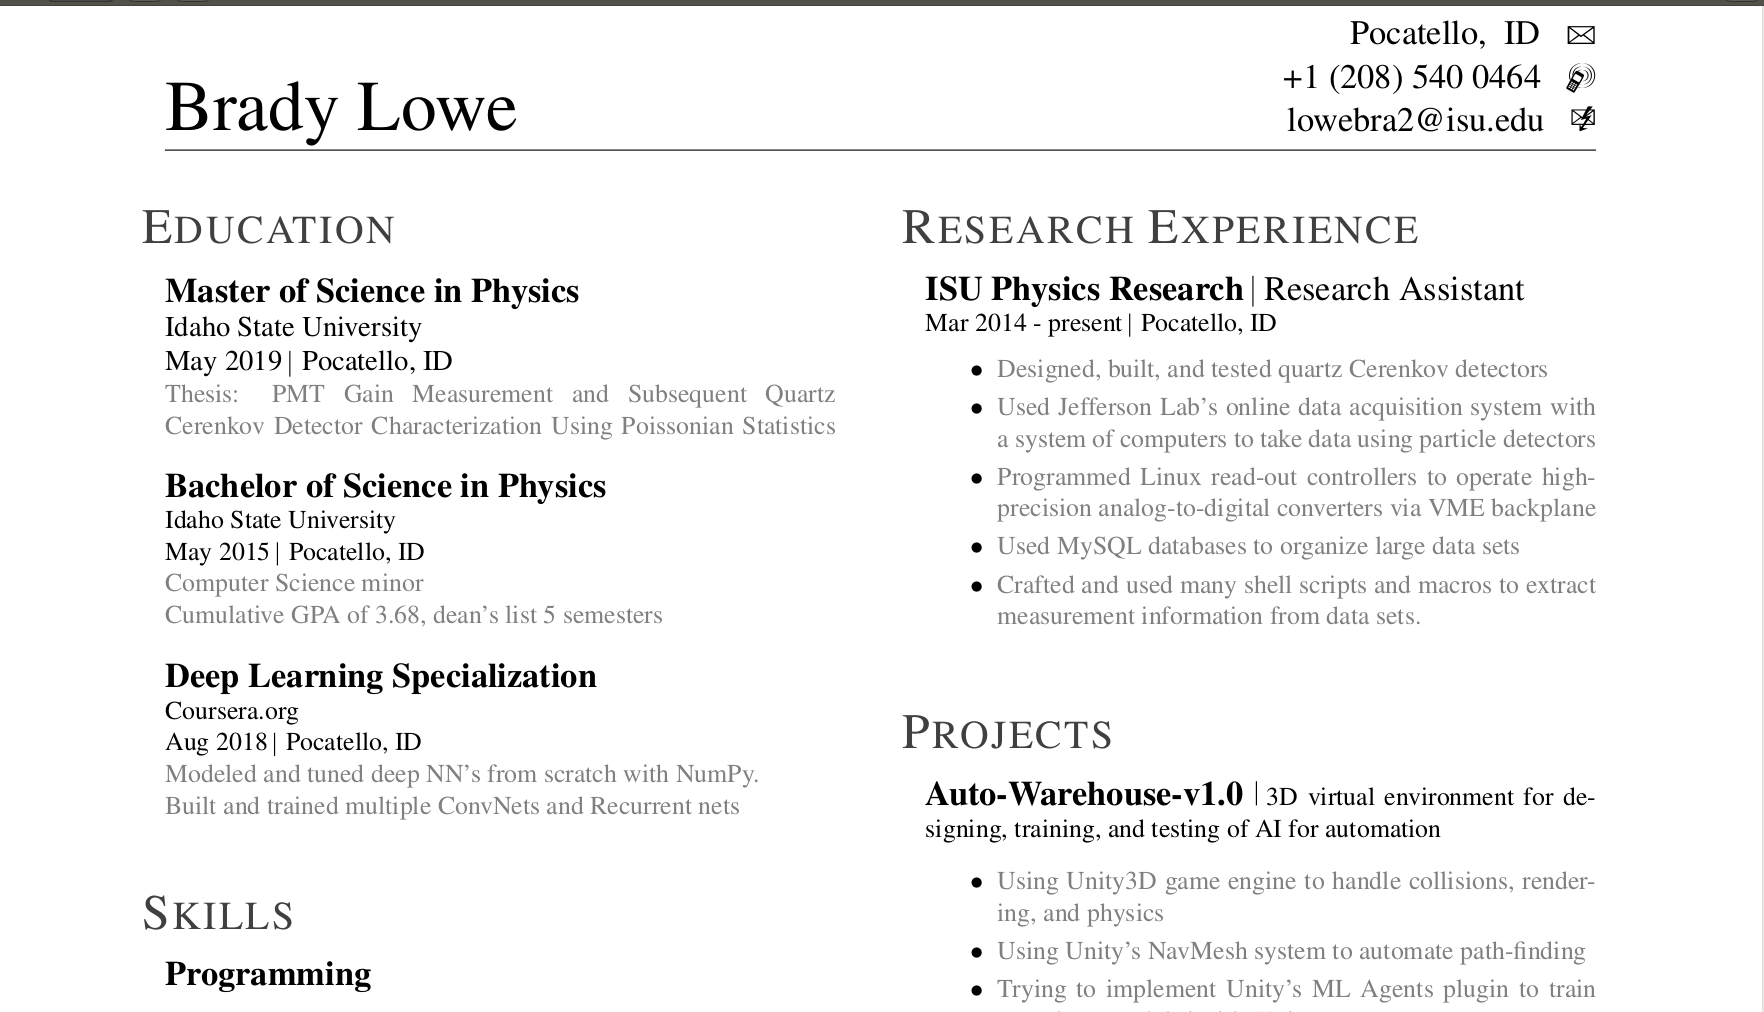bullet: (157, 375, 844, 444), (962, 385, 1606, 458), (966, 565, 1608, 637), (956, 862, 1608, 927), (964, 461, 1605, 525), (164, 757, 768, 816), (953, 925, 1600, 968), (958, 349, 1558, 384), (966, 528, 1531, 565), (955, 968, 1613, 999), (151, 270, 594, 311), (162, 599, 671, 634), (157, 469, 608, 507), (162, 657, 606, 694), (1273, 58, 1602, 101), (1277, 102, 1606, 141), (1336, 13, 1606, 55), (154, 951, 376, 994), (155, 313, 426, 345), (159, 539, 428, 571), (160, 347, 460, 375), (160, 570, 430, 598), (157, 504, 401, 534), (164, 728, 433, 754), (161, 696, 309, 727)
header: (909, 773, 1619, 851), (915, 265, 1536, 338), (155, 63, 533, 143), (895, 201, 1433, 257), (128, 196, 413, 261), (894, 708, 1126, 757), (132, 884, 307, 939)
section: (109, 182, 859, 854), (874, 185, 1631, 668), (884, 702, 1676, 999), (1258, 8, 1615, 145), (105, 871, 396, 999)
word: (348, 69, 529, 142), (162, 73, 338, 147), (137, 204, 406, 251), (920, 774, 1248, 811), (1144, 208, 1424, 248), (901, 206, 1140, 252), (159, 953, 377, 996), (900, 709, 1118, 753), (388, 661, 606, 701), (1275, 103, 1548, 135), (141, 892, 294, 933), (1338, 16, 1493, 53), (466, 265, 588, 313), (245, 661, 388, 701), (489, 467, 615, 510), (368, 411, 545, 441), (159, 468, 303, 504), (313, 267, 429, 311), (406, 377, 559, 411), (1259, 270, 1396, 307), (1104, 271, 1248, 305), (615, 378, 754, 413), (1396, 271, 1529, 307), (154, 271, 274, 310), (339, 465, 458, 504), (1096, 494, 1275, 520), (987, 271, 1102, 310), (1345, 388, 1464, 425), (300, 311, 426, 345), (993, 461, 1136, 490), (615, 411, 739, 442), (159, 410, 270, 444), (1054, 389, 1157, 425), (1305, 461, 1419, 493), (1119, 423, 1228, 457), (164, 701, 302, 727), (1142, 934, 1253, 967), (300, 344, 419, 375), (1138, 604, 1266, 631), (287, 503, 400, 534), (164, 657, 244, 701), (162, 604, 292, 630), (992, 355, 1105, 385), (1347, 354, 1451, 387), (1205, 457, 1299, 493), (1381, 785, 1520, 810), (435, 791, 545, 822), (1142, 528, 1252, 559), (739, 413, 841, 445), (1135, 308, 1245, 337), (1488, 494, 1602, 522), (1056, 528, 1142, 565), (1497, 428, 1600, 458), (1409, 867, 1520, 894), (161, 570, 271, 598), (1457, 939, 1591, 962), (1321, 814, 1447, 839), (165, 757, 260, 789), (584, 791, 697, 818), (283, 728, 390, 756), (1465, 389, 1546, 425), (1101, 974, 1222, 999), (561, 605, 670, 631), (1354, 939, 1457, 967), (270, 414, 367, 444), (1450, 354, 1554, 381), (1064, 932, 1142, 967), (1324, 63, 1405, 97), (344, 791, 435, 822), (674, 757, 761, 789), (995, 605, 1136, 624), (996, 493, 1093, 521), (754, 378, 838, 410), (542, 759, 620, 793), (1470, 61, 1545, 96), (1065, 867, 1159, 894), (274, 568, 360, 599), (1221, 388, 1293, 424), (1012, 425, 1086, 461), (1014, 817, 1102, 846), (263, 790, 344, 822), (1225, 864, 1302, 897), (995, 568, 1078, 599), (1276, 534, 1374, 560), (1419, 427, 1497, 458), (1136, 458, 1204, 494), (922, 816, 1010, 844), (426, 600, 502, 633), (1455, 465, 1537, 494), (285, 541, 394, 562), (922, 271, 987, 308), (1082, 899, 1170, 926), (1276, 353, 1346, 385), (1327, 867, 1409, 894), (159, 310, 231, 342), (220, 344, 283, 381), (1207, 354, 1276, 387), (992, 530, 1056, 565), (1250, 937, 1327, 966), (1275, 501, 1388, 520), (234, 311, 300, 344), (556, 375, 615, 411), (1543, 390, 1603, 427), (423, 757, 486, 791), (164, 381, 244, 407), (1405, 63, 1470, 96), (1046, 314, 1124, 341), (1157, 390, 1224, 422), (164, 344, 220, 381), (1304, 783, 1381, 810), (160, 507, 225, 538), (545, 412, 615, 441), (1520, 573, 1600, 599), (1535, 463, 1599, 494), (996, 936, 1063, 966), (1416, 572, 1495, 598), (1222, 974, 1305, 999), (360, 568, 431, 596), (1494, 15, 1543, 55), (1105, 353, 1165, 385), (1159, 864, 1225, 894), (225, 505, 285, 538), (1149, 818, 1221, 845), (1519, 870, 1599, 894), (993, 867, 1063, 894), (1296, 573, 1371, 599), (269, 381, 332, 411), (486, 757, 542, 791), (993, 974, 1070, 999), (212, 538, 273, 568), (970, 307, 1031, 337), (1278, 57, 1323, 97), (338, 377, 399, 406), (1239, 570, 1298, 600), (372, 600, 428, 631), (1425, 494, 1488, 522), (303, 761, 368, 788), (1174, 571, 1239, 598), (213, 728, 270, 759), (164, 790, 220, 821), (992, 393, 1054, 421), (1539, 976, 1613, 999), (370, 760, 423, 791), (620, 757, 674, 789), (1293, 388, 1346, 419), (1356, 977, 1437, 997), (1371, 534, 1428, 564), (290, 599, 342, 630), (1123, 566, 1175, 598), (993, 899, 1039, 933), (1325, 600, 1371, 633), (164, 728, 213, 759), (274, 271, 313, 310), (302, 465, 340, 504), (922, 307, 970, 337), (1305, 423, 1357, 451), (1266, 602, 1323, 628), (1079, 566, 1122, 600), (1258, 423, 1305, 453), (1163, 354, 1207, 387), (162, 541, 213, 568), (1439, 980, 1514, 999), (1373, 604, 1424, 630), (1427, 533, 1479, 559), (429, 275, 465, 311), (502, 600, 542, 633), (220, 790, 263, 821), (1357, 428, 1413, 451), (456, 467, 489, 504), (545, 791, 586, 822), (1102, 817, 1149, 844), (263, 757, 303, 788), (1483, 534, 1528, 561), (1369, 573, 1417, 598), (1305, 974, 1356, 997), (1384, 497, 1427, 524), (1245, 307, 1281, 339), (419, 345, 458, 375), (1518, 782, 1558, 810), (1285, 814, 1321, 845), (1557, 784, 1598, 810), (1044, 899, 1082, 927), (695, 796, 743, 818), (390, 728, 426, 756), (1227, 422, 1256, 453), (1264, 787, 1302, 810), (1493, 571, 1523, 600), (1088, 425, 1119, 453), (1328, 937, 1356, 968), (343, 601, 372, 630), (1256, 814, 1285, 844), (399, 536, 423, 567), (1302, 867, 1327, 897), (1072, 974, 1100, 999), (1511, 976, 1540, 999), (1228, 816, 1253, 841), (991, 428, 1014, 454), (539, 600, 559, 631), (1425, 465, 1449, 490), (1252, 536, 1275, 559)
